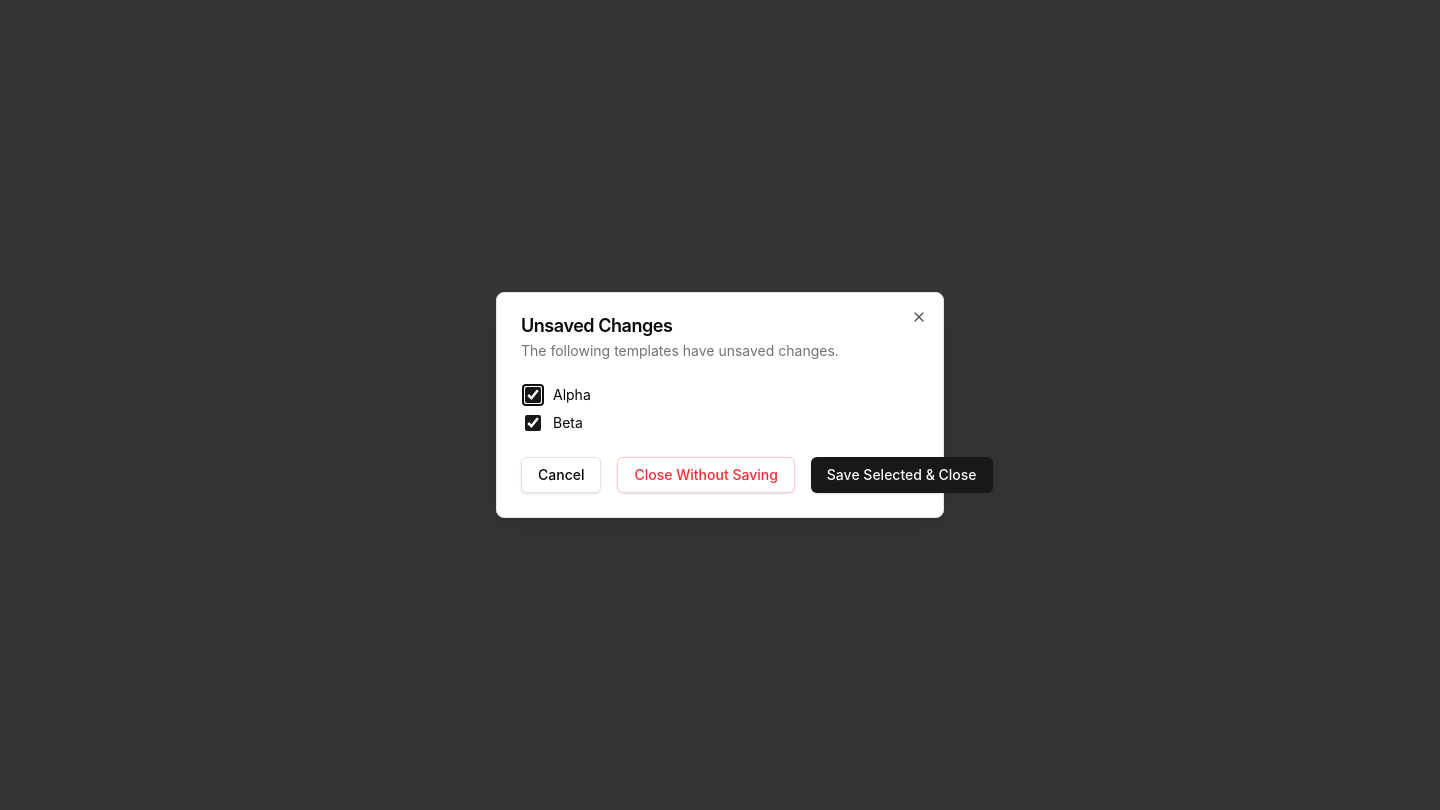
Test: UnsavedChangesDialog › disables Save Selected when all checkboxes are unchecked
Step 1. Click the checkbox labelled "Alpha" → (533, 395), box [525, 387, 541, 403]
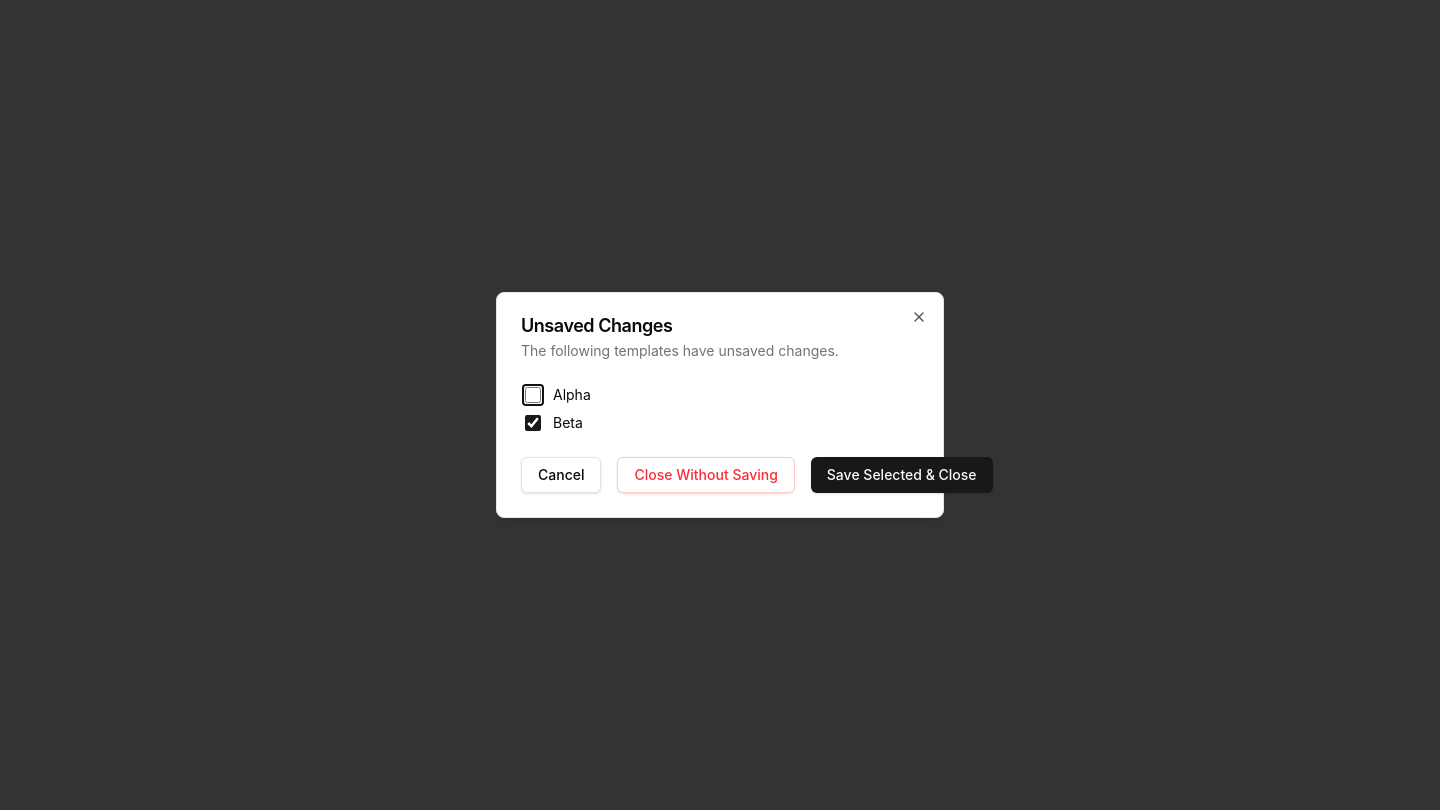
Step 2. Click the checkbox labelled "Beta" → (533, 423), box [525, 415, 541, 431]
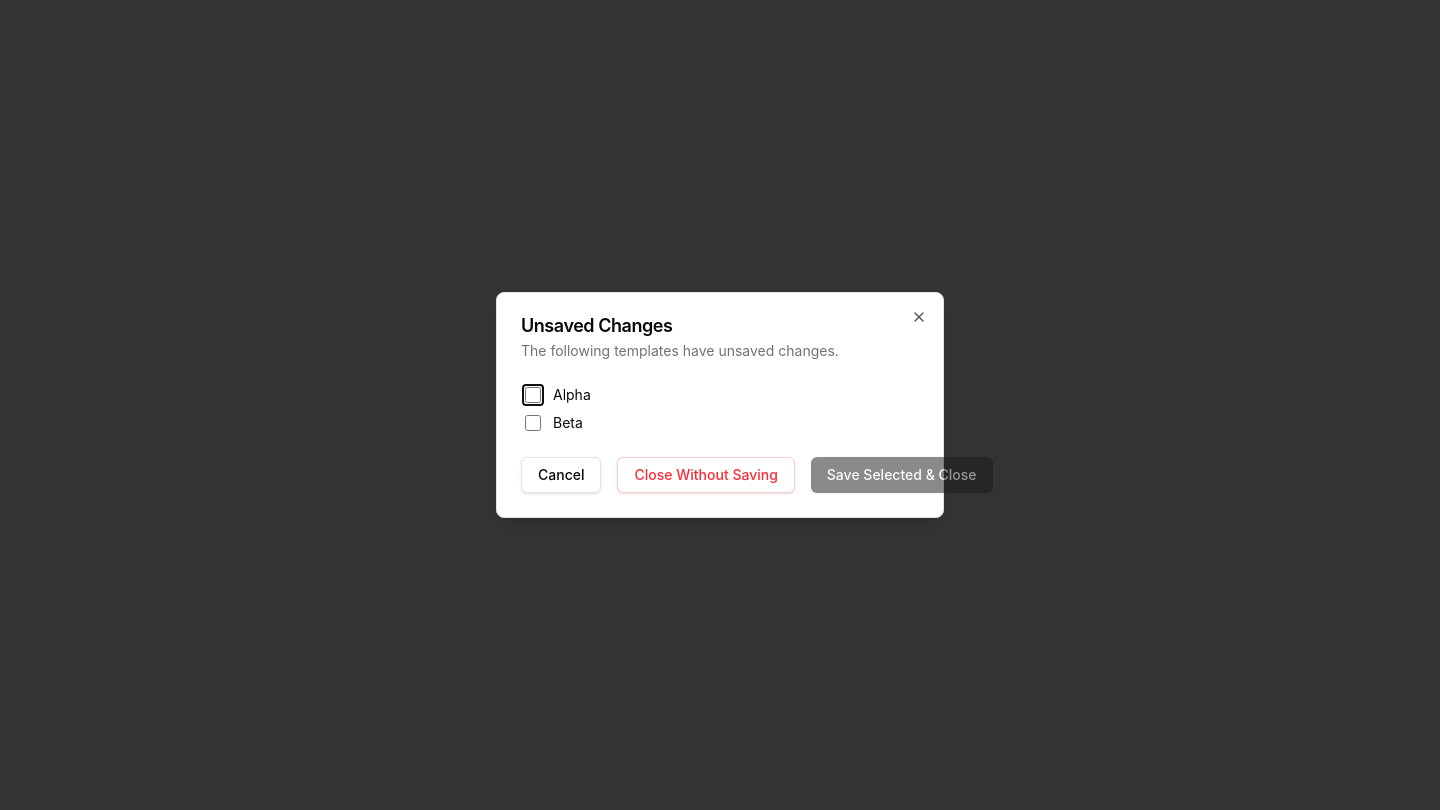
Check: the button "Save Selected & Close" is disabled, box [811, 457, 993, 493]
